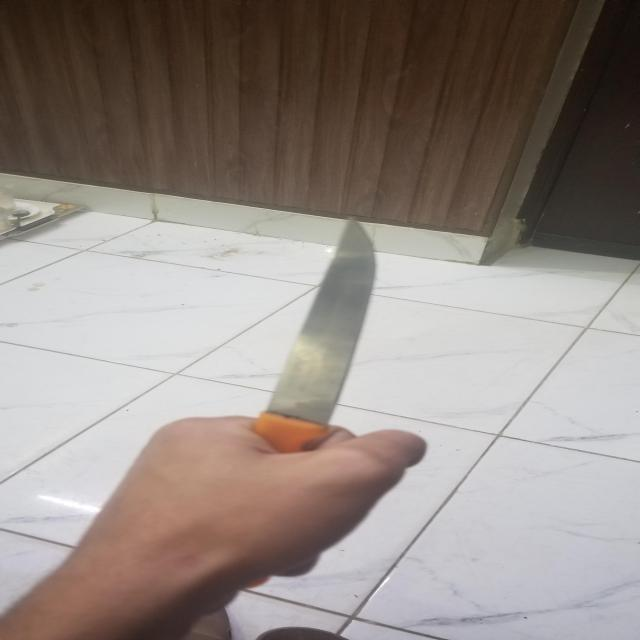faca: (243, 218, 379, 456)
